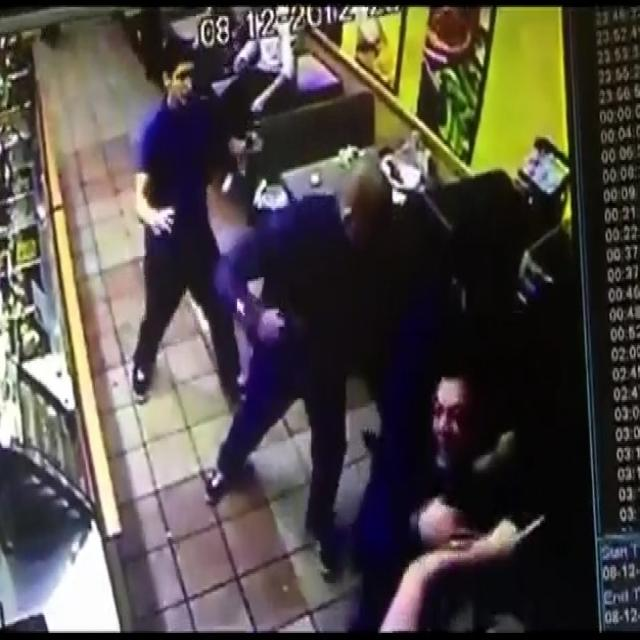fight: (220, 155, 528, 640)
